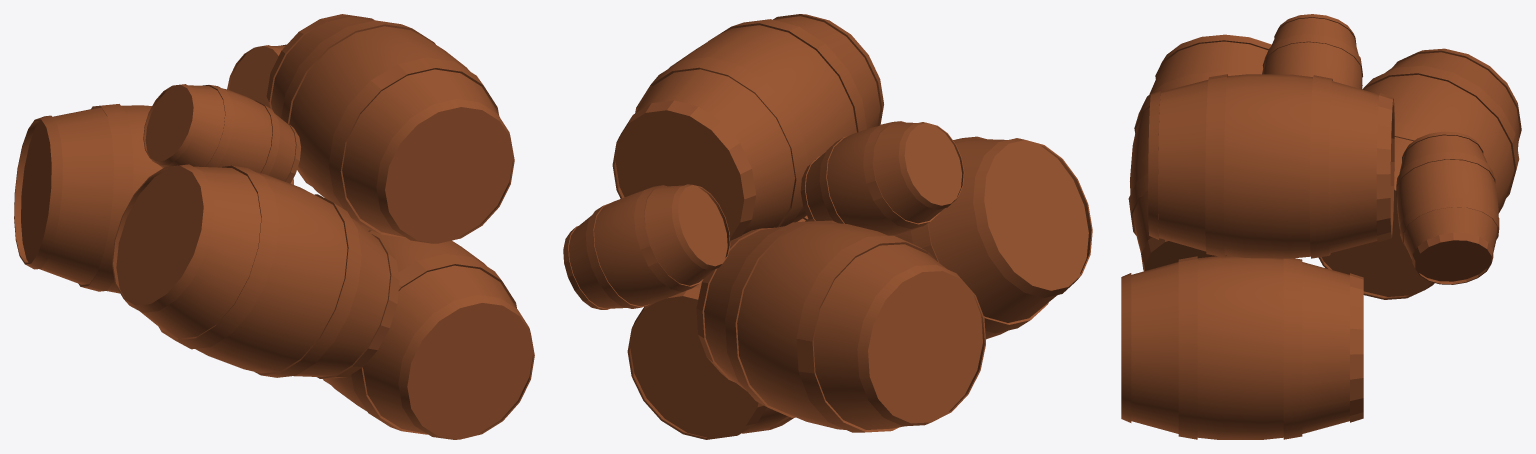
The model's file is mutongdui.FBX.
3 renders of one model, left to right at view 1: azimuth 30°, elevation 25°; view 2: azimuth 150°, elevation 25°; view 3: azimuth 270°, elevation 25°, orthographic. The views are drawn at different scales.
Parts seen in each view (by area): view 1: c104, c107, c106, c109, c105, c108; view 2: c109, c107, c104, c108, c105, c106; view 3: c107, c106, c109, c108, c104, c105.
Part boxes in pixels (x1,y1,x2,y2): c104: (112,164,399,378); c107: (266,14,514,243); c106: (322,220,534,439); c109: (14,104,293,293); c105: (143,84,300,183); c108: (227,44,286,106); c109: (696,220,985,432); c107: (612,14,883,240); c104: (805,136,1092,339); c108: (563,184,730,309); c105: (800,121,964,235); c106: (627,215,808,439); c107: (1148,74,1394,258); c106: (1121,256,1363,439); c109: (1318,48,1521,299); c108: (1396,131,1499,284); c104: (1128,34,1271,271); c105: (1262,14,1362,89).
Size of the model in its own units: 0.8742 by 0.8018 by 0.8436.
